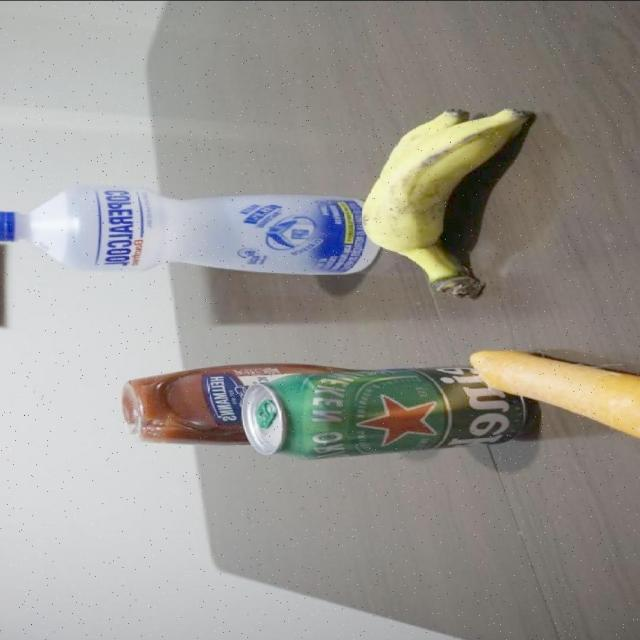AlcoholBottle: (0, 184, 359, 275)
Banana: (362, 105, 557, 295)
BeerCan: (243, 371, 466, 459)
Carrot: (461, 345, 640, 446)
Ketchup: (103, 361, 234, 447)
